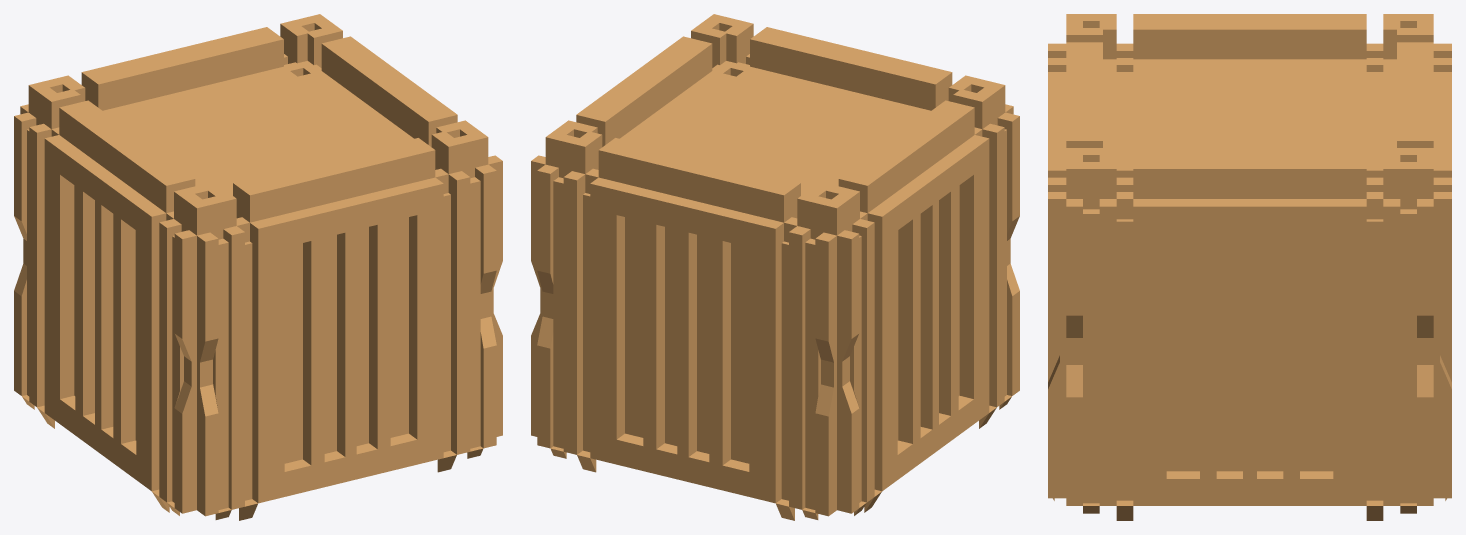
3 views of the same model, side by side, from view 1: azimuth 30°, elevation 25°; view 2: azimuth 150°, elevation 25°; view 3: azimuth 270°, elevation 25° (orthographic). The views are drawn at different scales.
Parts seen in each view (by area): view 1: Floor Block 1, Floor Block 1.001; view 2: Floor Block 1, Floor Block 1.001; view 3: Floor Block 1.001, Floor Block 1.
Boxes of the visible parts, bbox=[...] form: Floor Block 1: bbox=[20, 14, 496, 520]; Floor Block 1.001: bbox=[14, 15, 502, 515]; Floor Block 1: bbox=[537, 14, 1013, 520]; Floor Block 1.001: bbox=[531, 14, 1019, 515]; Floor Block 1.001: bbox=[1066, 14, 1433, 520]; Floor Block 1: bbox=[1048, 14, 1451, 500].
Bounding box in the file's own units: 2.2 × 2.1 × 2.2.
